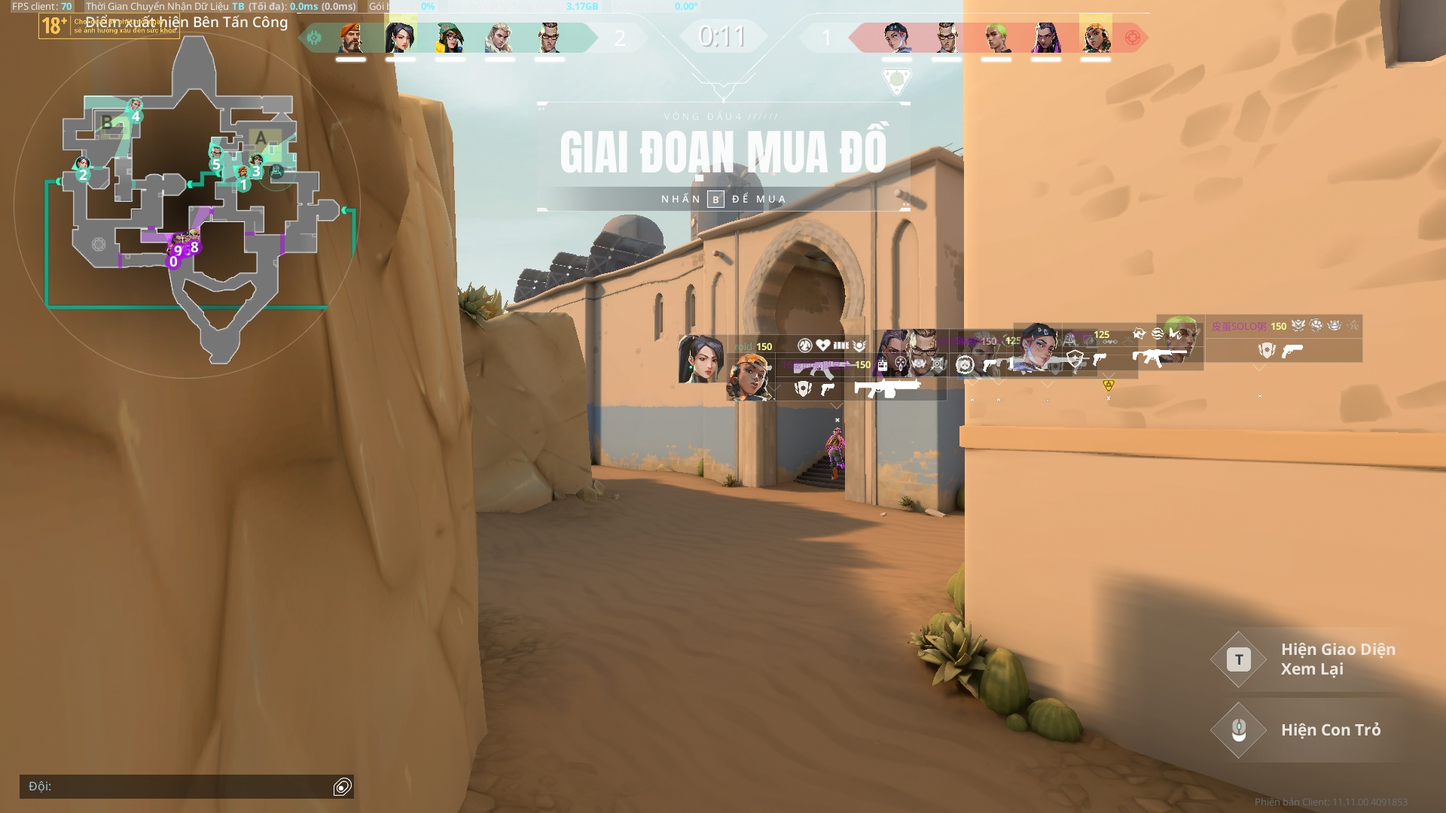body: (828, 433, 842, 448)
head: (831, 426, 840, 434)
